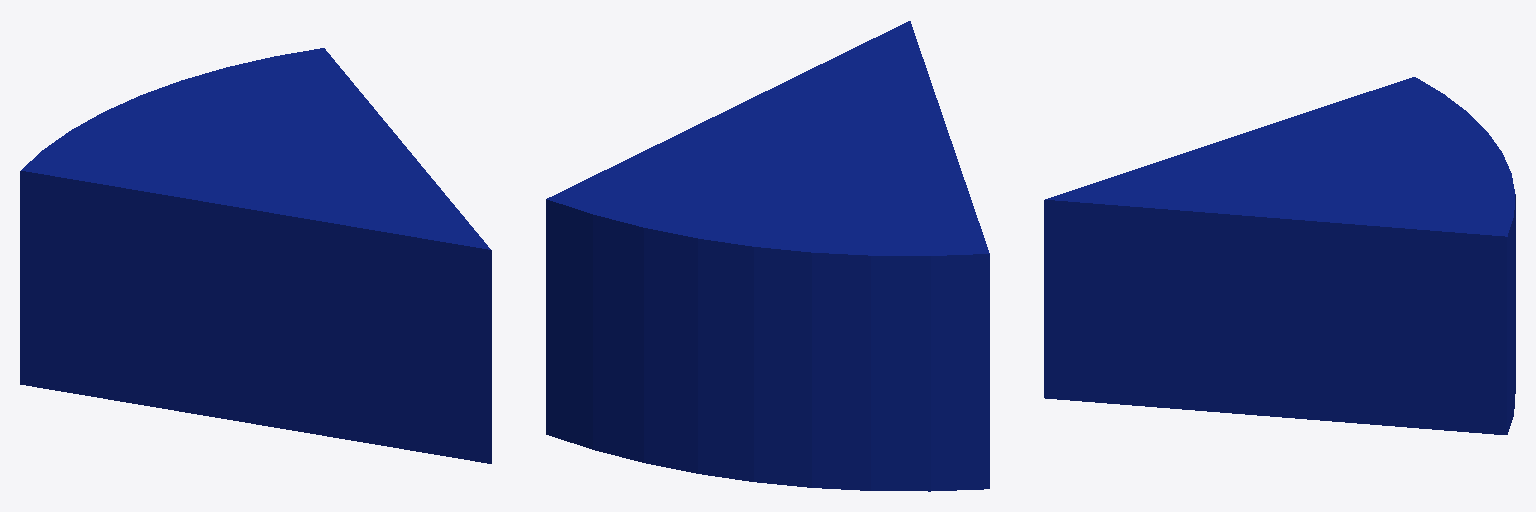
URDF robot description (block):
<robot name="block">
  <link name="block_base_link">
    <contact>
      <lateral_friction value="0.2"/>
      <rolling_friction value="0.001"/>
      <contact_cfm value="0.0"/>
      <contact_erp value="1.0"/>
    </contact>
    <inertial>
      <origin rpy="0 0 0" xyz="-0.00009 0.01024 0.015"/>
      <mass value="0.05"/>
      <inertia ixx="0" ixy="0" ixz="0" iyy="0" iyz="0" izz="0"/>
    </inertial>
    <collision>
      
      <geometry>
        <mesh filename="27.STL" scale="1 1 1"/>
      </geometry>
    </collision>
    <visual>
 
      <geometry>
        <mesh filename="27.STL" scale="1 1 1"/>
      </geometry>
      <material name="tray_material">
        <color rgba="0.1 0.2 0.6 1"/>
      </material>
    </visual>
  </link>
</robot>

--- What the picture shows (computed from the rendered views, not written in the file) ---
The picture shows the robot from 3 angles, left to right: view 1: azimuth 30°, elevation 25°; view 2: azimuth 150°, elevation 25°; view 3: azimuth 270°, elevation 25°; orthographic projection.
Model block with 1 links and 0 joints (none), rooted at block_base_link, posed all joints at 0.
Links seen in each view (by area): view 1: block_base_link; view 2: block_base_link; view 3: block_base_link.
Boxes of the visible links, x1,y1,x2,y2 form: block_base_link: (20,48,491,463); block_base_link: (546,21,989,491); block_base_link: (1044,77,1515,434).
Size in the robot's own frame: 0.0519 by 0.0644 by 0.03 metres.
Meshes: 1 distinct files referenced, 1 mesh visuals loaded (1 binary STL).